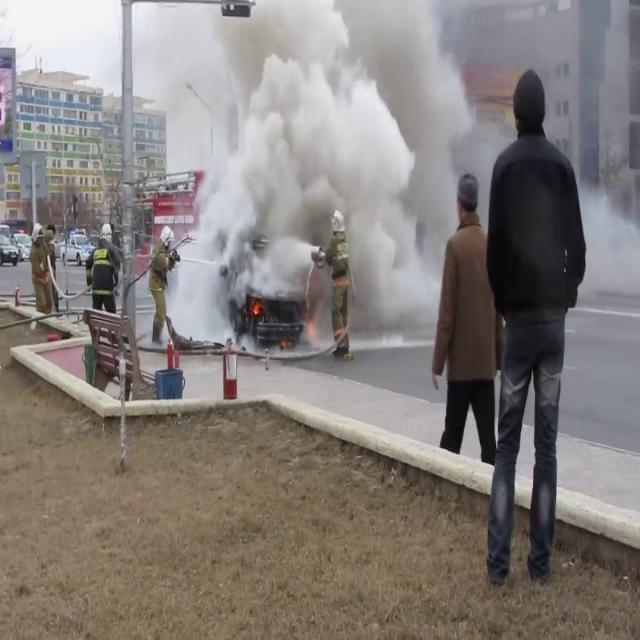Smoke: (173, 0, 478, 342)
